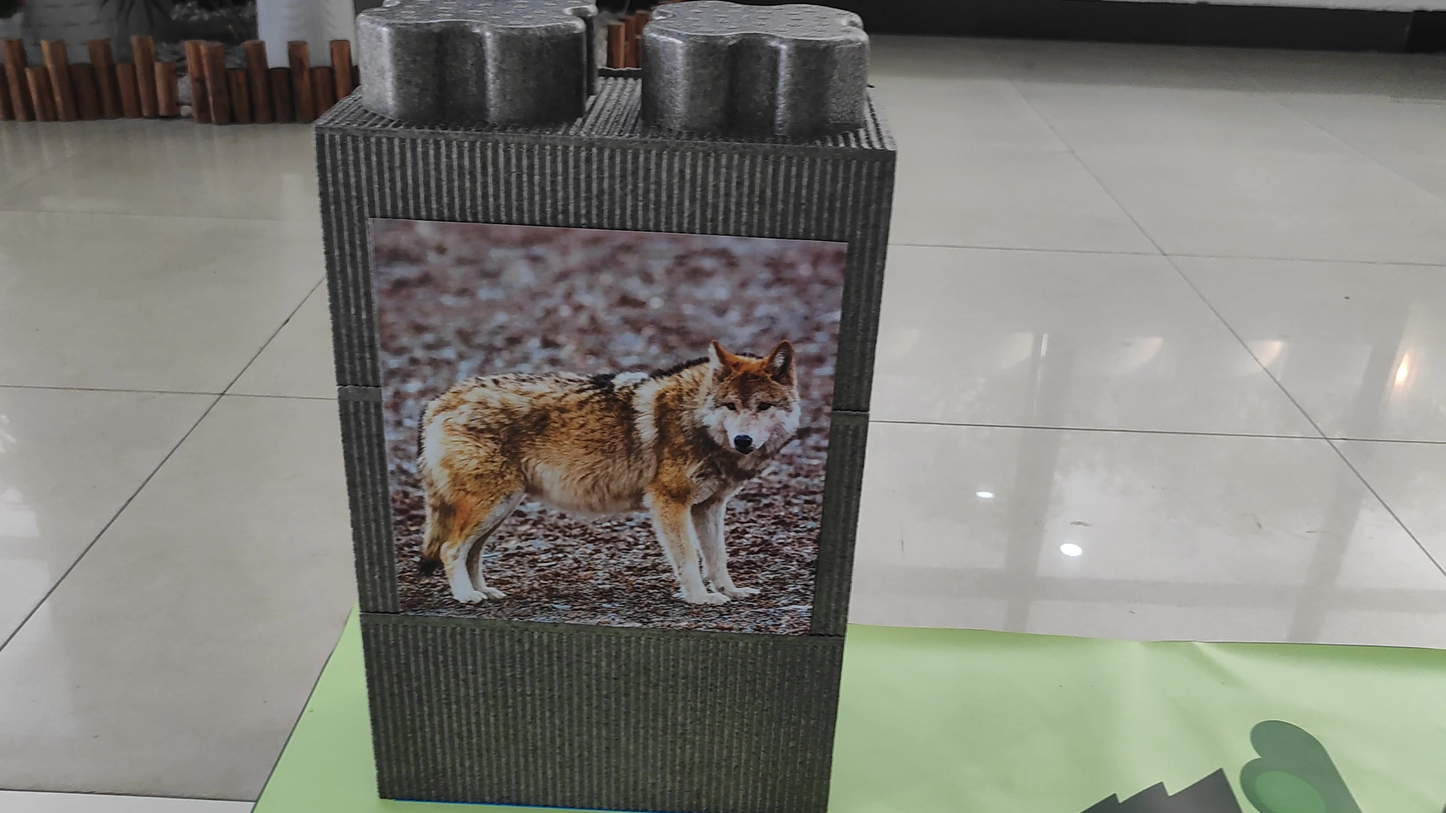wolf: (378, 293, 830, 632)
